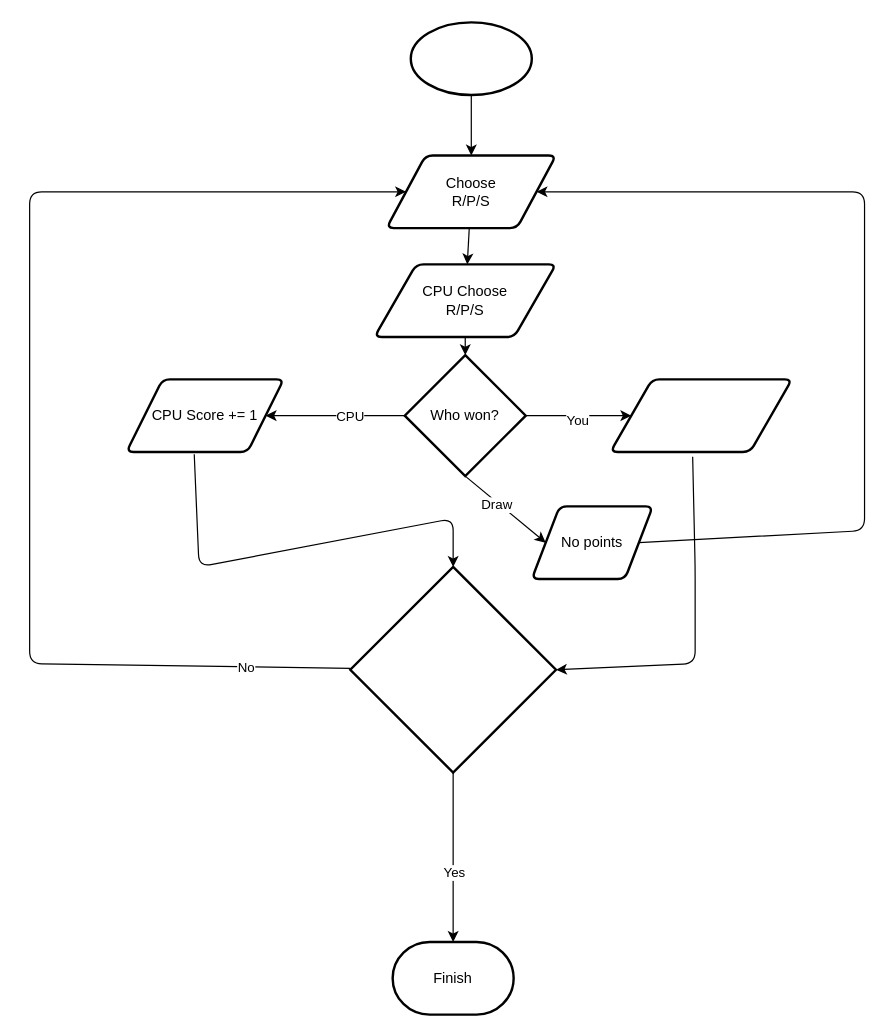
This 895x1036 diagram has some shape labels left out. The shapes that lost their labels are listed below. From the top down, each one's centre as x and y in pixels, then its label:
At point 470,58: "Start".
At point 701,415: "Your score += 1".
At point 452,669: "Is Your score >= 10 OR CPU Score >=10?".
